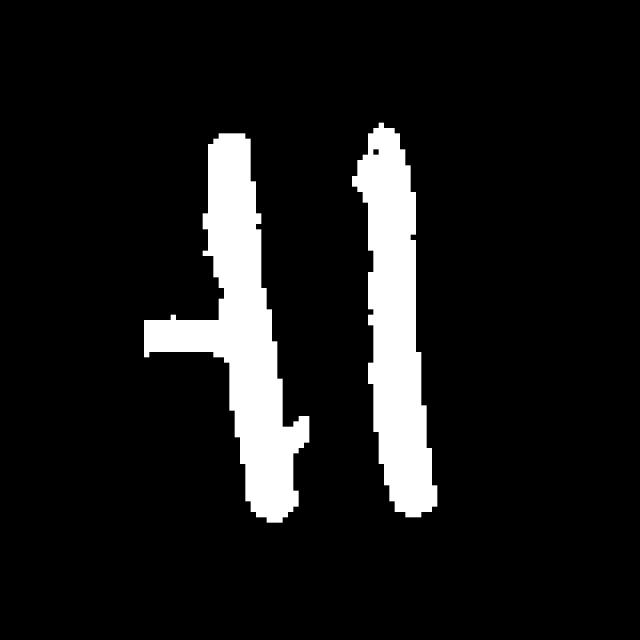capacitor: (201, 110, 454, 528)
